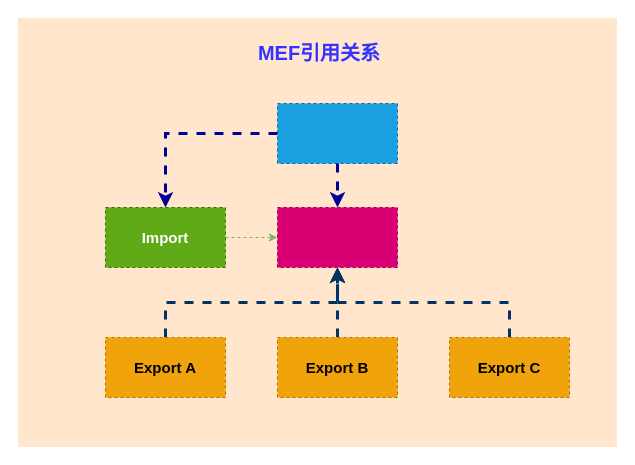
This 635x465 diagram has some shape labels left out. The centre of each missing label's shape, as x and y in pixels:
"Application" goes at point 337,133.
"Contracts" goes at point 337,237.
